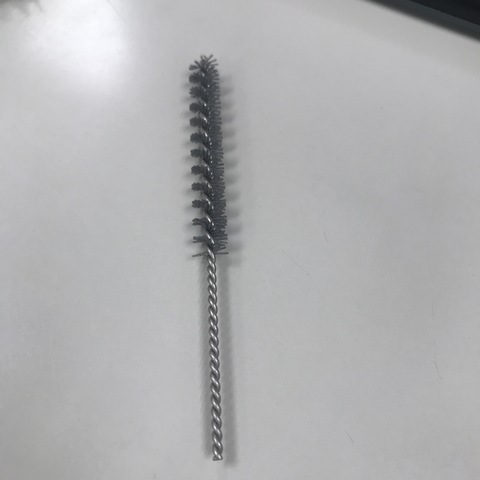Twist Brush-A: (184, 52, 244, 467)
